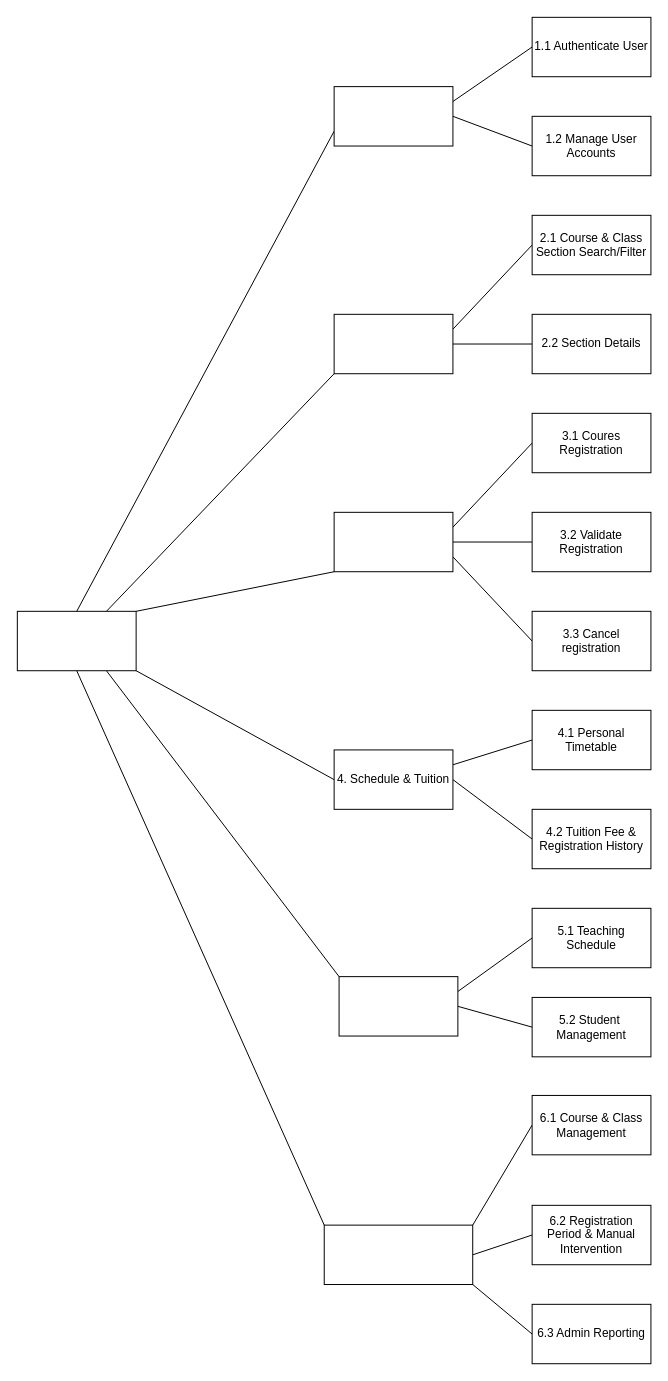
This 668x1381 diagram has some shape labels left out. Here are the shapes that lost their labels. From the top down, the box of each, then its label:
(333, 86, 453, 146): 1. Authentication & Account Management
(333, 313, 453, 374): 2. Course Search & Viewing
(333, 511, 453, 572): 3. Course Registration
(16, 610, 136, 671): Course Registration System
(338, 976, 458, 1036): 5. Lecturer Functions
(323, 1224, 473, 1285): 6. Course & Registration Management
